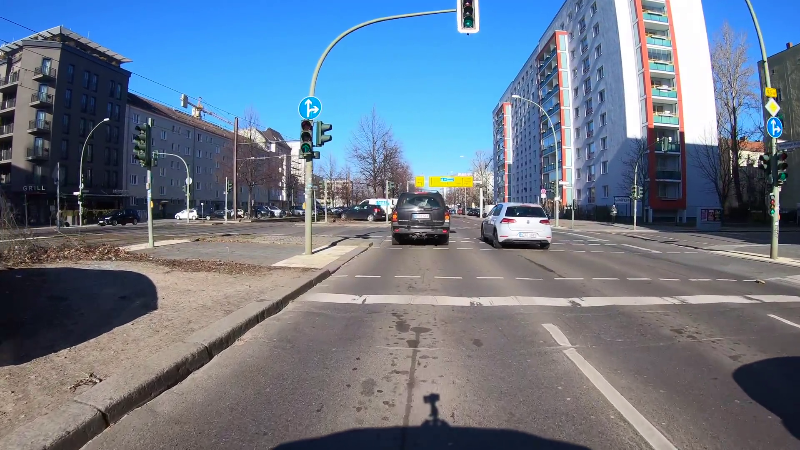Plate: (517, 231, 537, 237), (412, 212, 429, 218)
